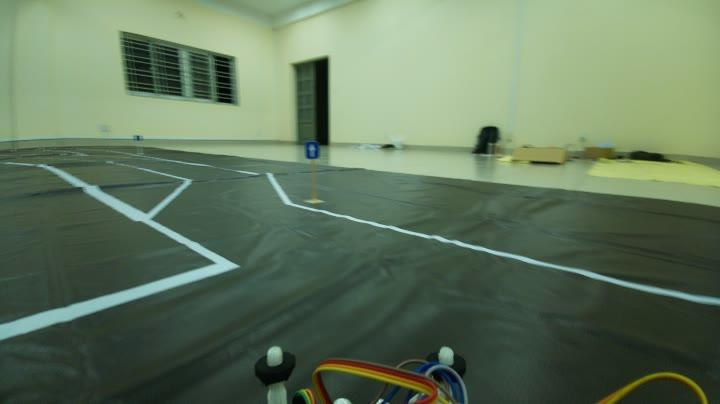onewayroad: (302, 141, 322, 161)
